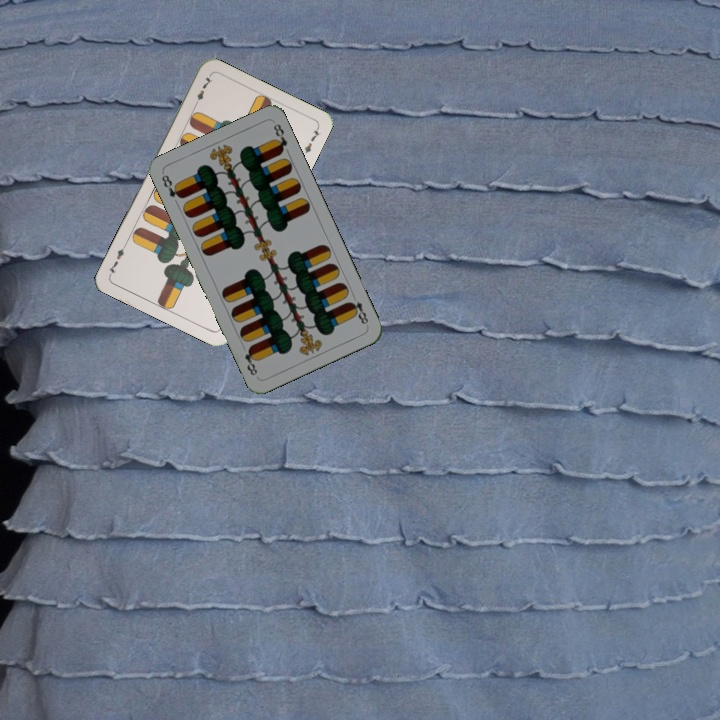E7: (190, 72, 215, 110)
E8: (345, 290, 371, 327), (157, 170, 185, 201)
